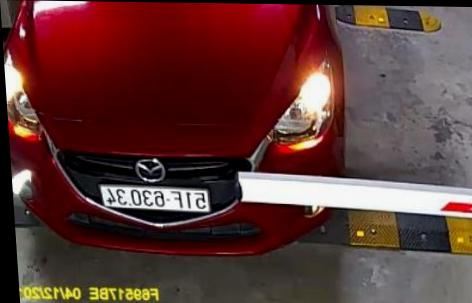License_Plate: (100, 182, 212, 214)
